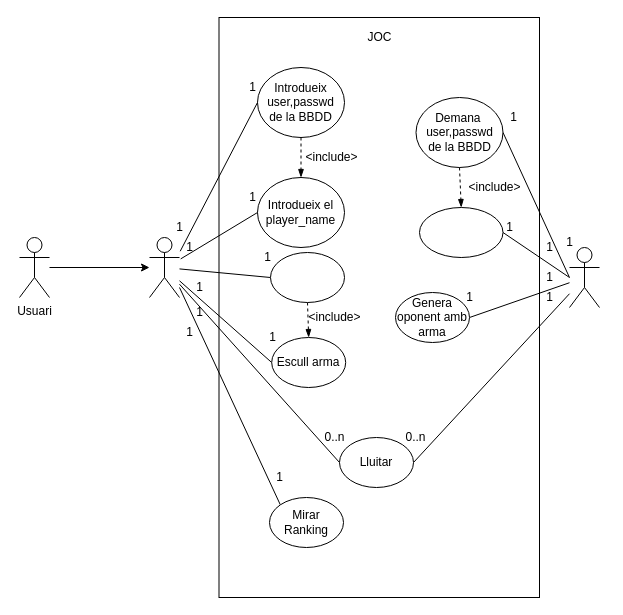
The diagram is 623 pixels wide and 615 high, and some of its shapes have lost their labels. The centre of each missing label's shape, as x and y in pixels:
"Demana el player_name" belongs at [460,232].
"Escull personatje" belongs at [307,277].
"Interficie grafica" belongs at [164,267].
"Sistema" belongs at [584,277].
